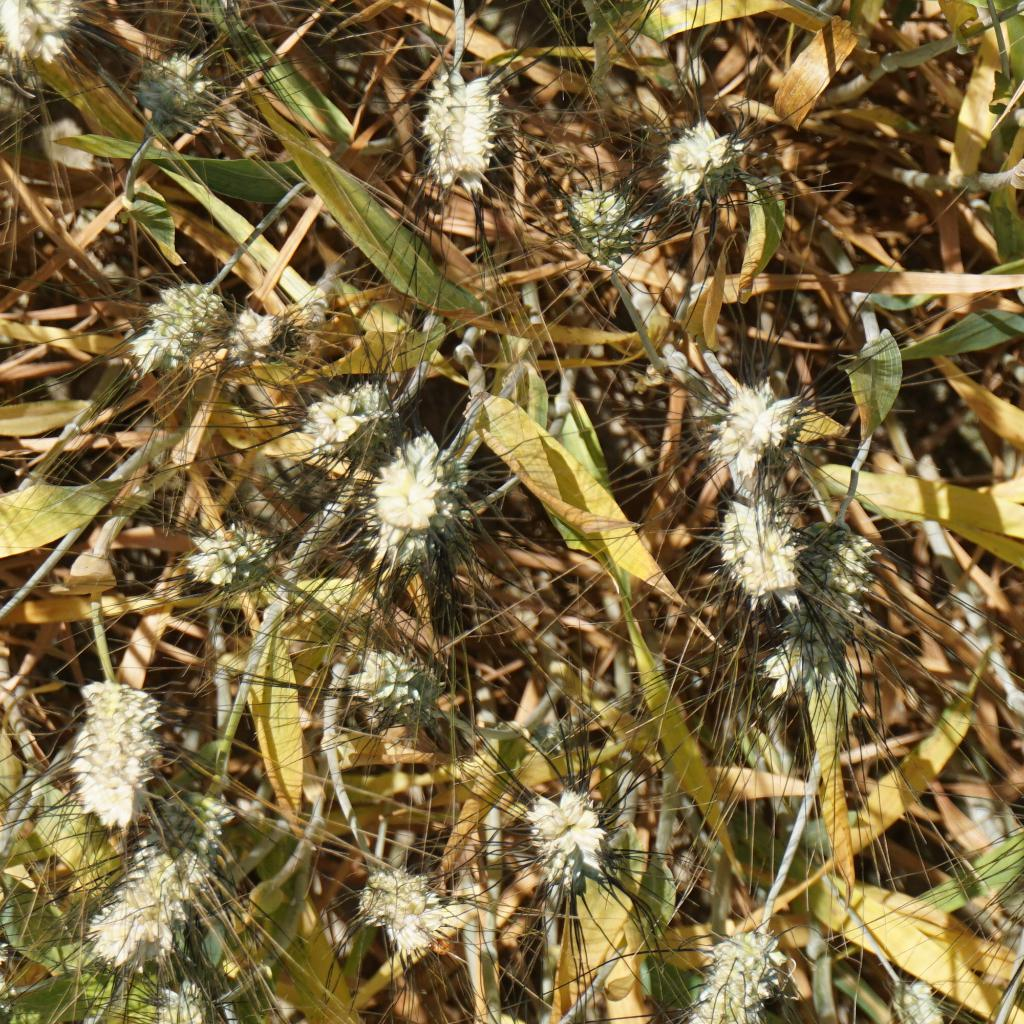0-0: (754, 503, 896, 708), (71, 675, 168, 837), (365, 438, 476, 566), (711, 499, 828, 619), (702, 371, 813, 493), (120, 269, 232, 376), (163, 806, 247, 948), (519, 775, 623, 883), (694, 919, 800, 1022), (425, 64, 500, 194), (95, 840, 161, 969), (293, 370, 399, 448), (656, 116, 744, 209), (175, 522, 284, 585), (561, 182, 636, 272), (333, 645, 422, 719), (0, 0, 81, 73), (224, 300, 301, 368), (141, 44, 212, 117), (354, 863, 428, 915), (378, 907, 443, 950), (888, 977, 946, 1024), (144, 978, 197, 1017), (529, 712, 570, 757), (0, 960, 18, 1024)
